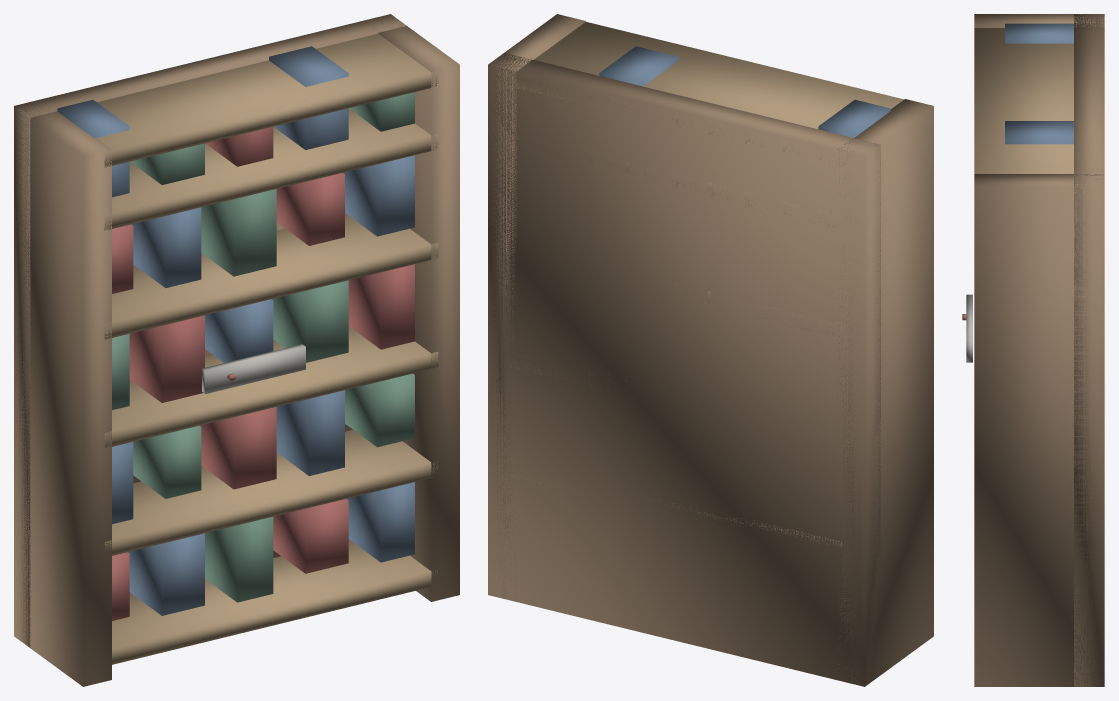
File: bookcase_bay__squat.glb
The picture shows the model from 3 angles, left to right: view 1: azimuth 30°, elevation 25°; view 2: azimuth 150°, elevation 25°; view 3: azimuth 270°, elevation 25°; orthographic projection. The views are drawn at different scales.
Visible parts, largest first — view 1: world; view 2: world; view 3: world.
Part boxes in pixels (left/top/right/bottom): world: left=14, top=14, right=459, bottom=686; world: left=488, top=14, right=933, bottom=686; world: left=962, top=14, right=1104, bottom=686.
Size of the model in its own units: 1.15 by 1.56 by 0.4007.
